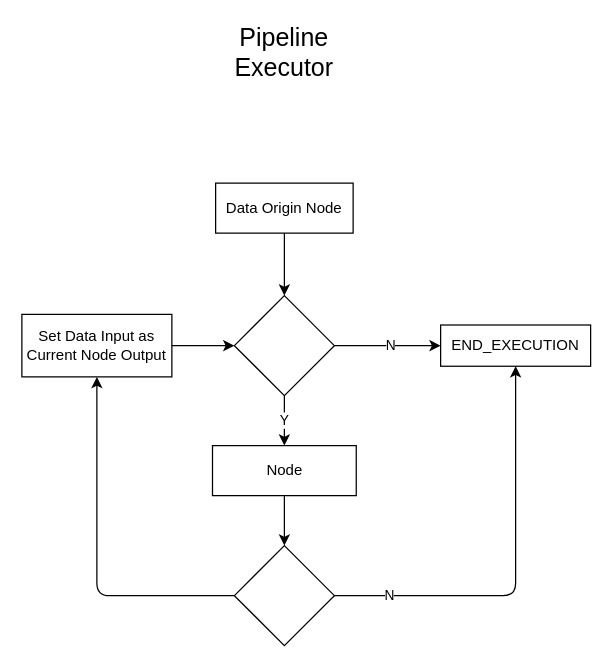
Some shapes in this 613 by 668 pixel diagram are drawn without their labels. Here are the shapes that lost their labels. From the top down, the box of each, then its label:
(233, 294, 334, 396): Has Next Node
(233, 544, 334, 646): Next Node Call Enabled?
